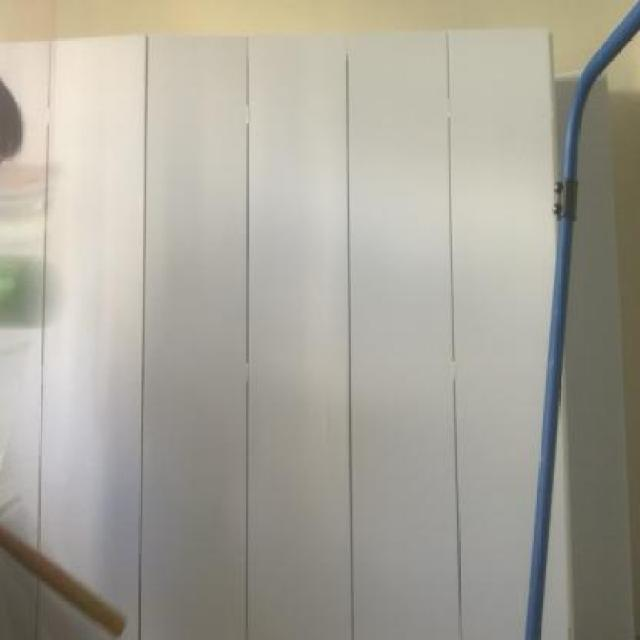baseball: (0, 243, 55, 334)
